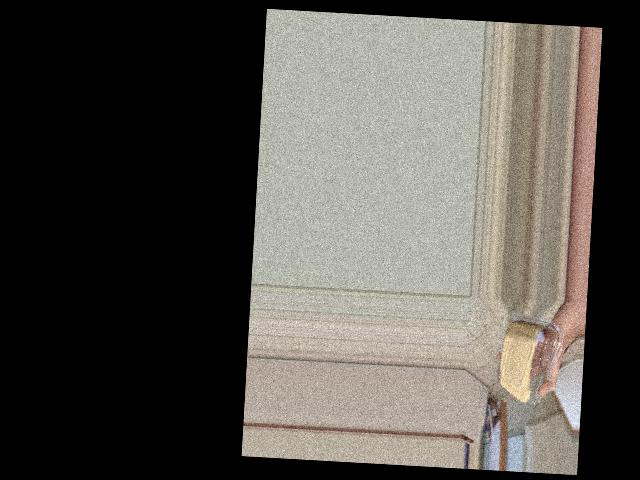cheese: (506, 309, 548, 386)
